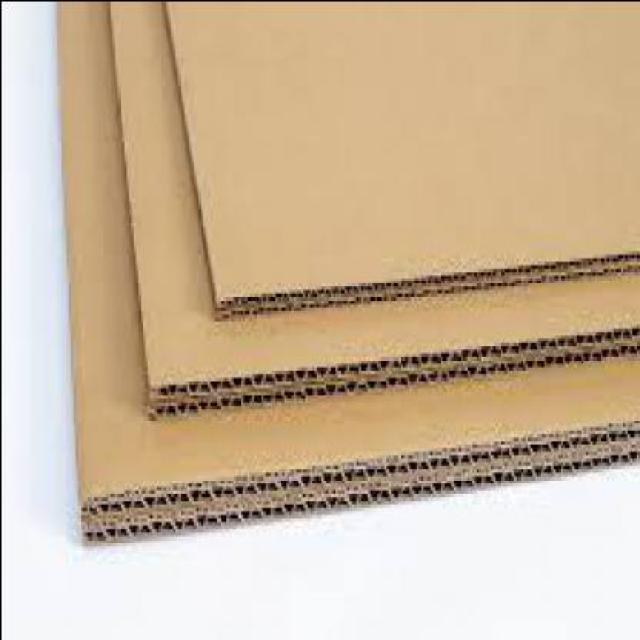CARDBOARD: (54, 2, 638, 543), (110, 0, 638, 417), (162, 2, 638, 316)
